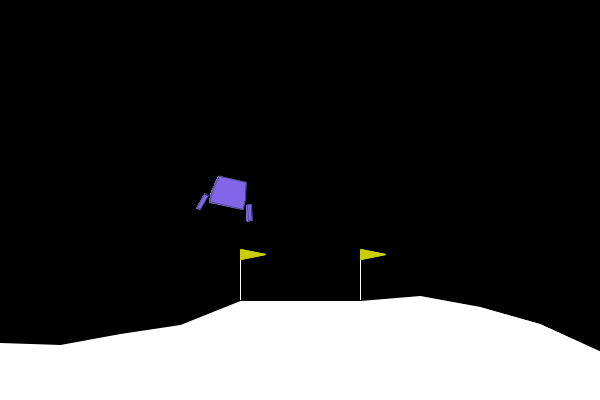lander: (194, 171, 262, 223)
